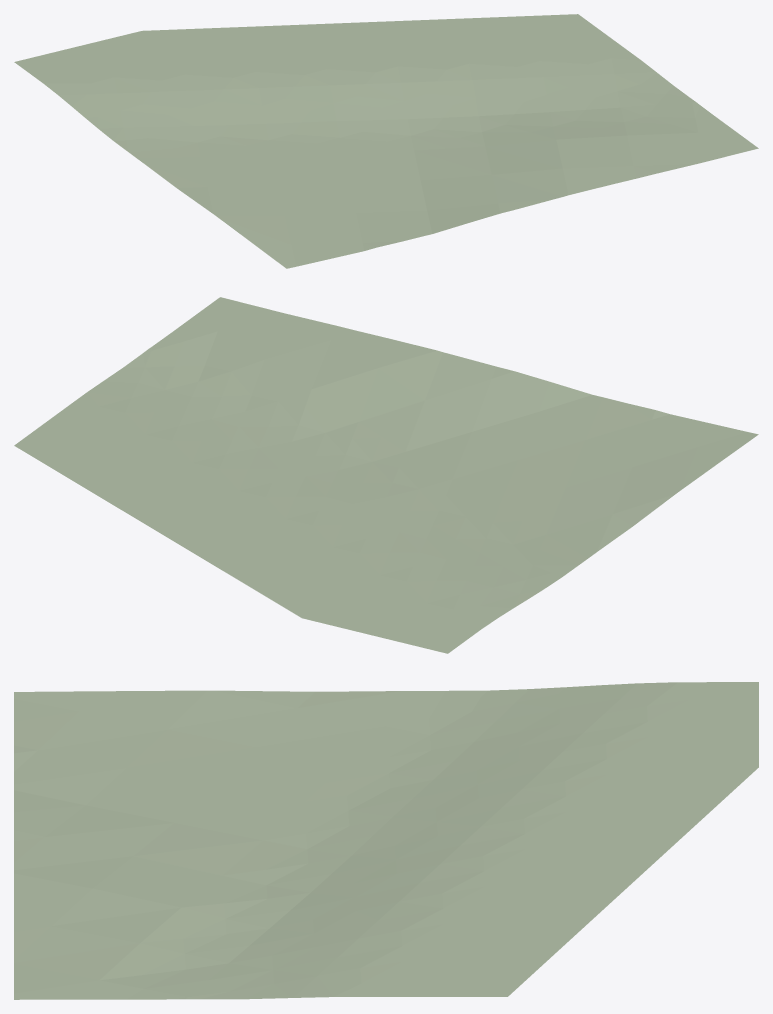
File: SM_MPRR_Terrain_1_3.fbx
3 renders of one model, top to bottom at view 1: azimuth 30°, elevation 25°; view 2: azimuth 150°, elevation 25°; view 3: azimuth 270°, elevation 25°, orthographic. The views are drawn at different scales.
Parts seen in each view (by area): view 1: SM_MPRR_Terrain_1_3; view 2: SM_MPRR_Terrain_1_3; view 3: SM_MPRR_Terrain_1_3.
Boxes of the visible parts, left/top/right/bottom form: SM_MPRR_Terrain_1_3: left=14, top=14, right=758, bottom=268; SM_MPRR_Terrain_1_3: left=14, top=297, right=758, bottom=653; SM_MPRR_Terrain_1_3: left=14, top=682, right=758, bottom=999.
Size of the model in its own units: 15000 by 15000 by 282.
